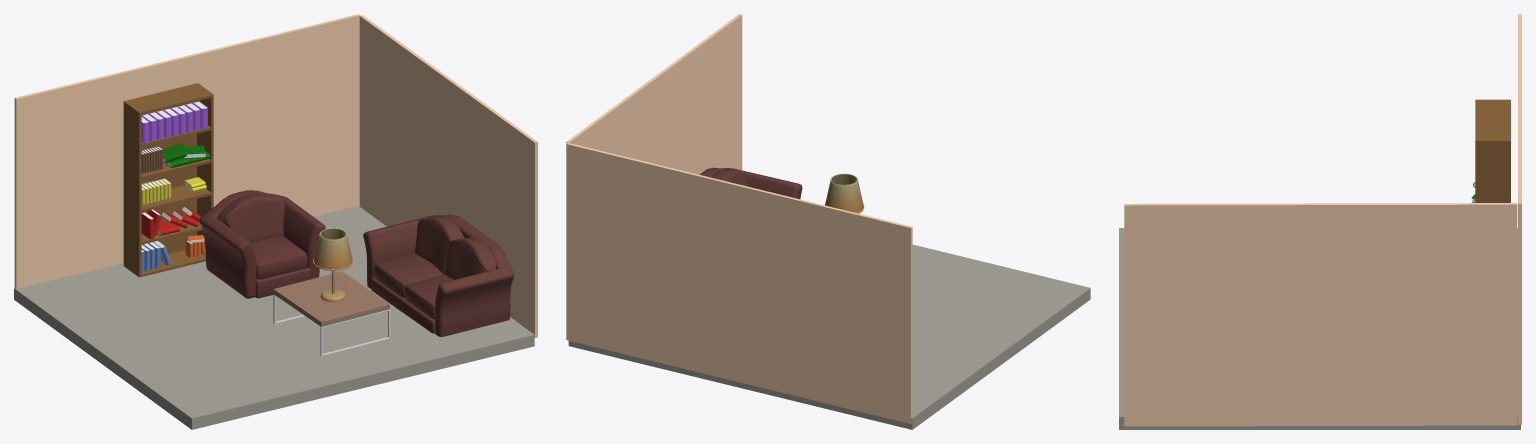
The model's file is psicologia.glb.
3 renders of one model, left to right at view 1: azimuth 30°, elevation 25°; view 2: azimuth 150°, elevation 25°; view 3: azimuth 270°, elevation 25°, orthographic. The views are drawn at different scales.
Visible parts, largest first — view 1: Cube.001, Cube, Cube.002, Sofa_Long_SA, Sofa_SA, Cube_wood_0, Coffe_Table, Circle.011, Lamp.005, Circle.005, Circle.014, Circle.015 (+2 smaller); view 2: Cube.001, Cube, Cube.002, Sofa_Long_SA, Lamp.005; view 3: Cube.002, Cube_wood_0, Cube, Cube.001.
Part boxes in pixels (box(x1,y1,x2,y2)): Cube.001: box(14, 14, 359, 288); Cube: box(14, 205, 534, 429); Cube.002: box(359, 15, 537, 337); Sofa_Long_SA: box(363, 214, 514, 336); Sofa_SA: box(199, 190, 325, 298); Cube_wood_0: box(123, 83, 213, 277); Coffe_Table: box(273, 271, 390, 356); Circle.011: box(141, 101, 207, 143); Lamp.005: box(314, 228, 352, 270); Circle.005: box(141, 205, 200, 239); Circle.014: box(141, 177, 206, 204); Circle.015: box(163, 142, 210, 168); Cube.001: box(566, 143, 912, 423); Cube: box(568, 244, 1090, 429); Cube.002: box(566, 14, 742, 174); Sofa_Long_SA: box(699, 167, 802, 199); Lamp.005: box(825, 173, 863, 213); Cube.002: box(1124, 203, 1517, 426); Cube_wood_0: box(1475, 99, 1510, 202); Cube: box(1119, 228, 1520, 429); Cube.001: box(1518, 14, 1521, 424).
Bounding box in the file's own units: 14.02 × 7.74 × 12.43.
16 materials, 2 textured.
